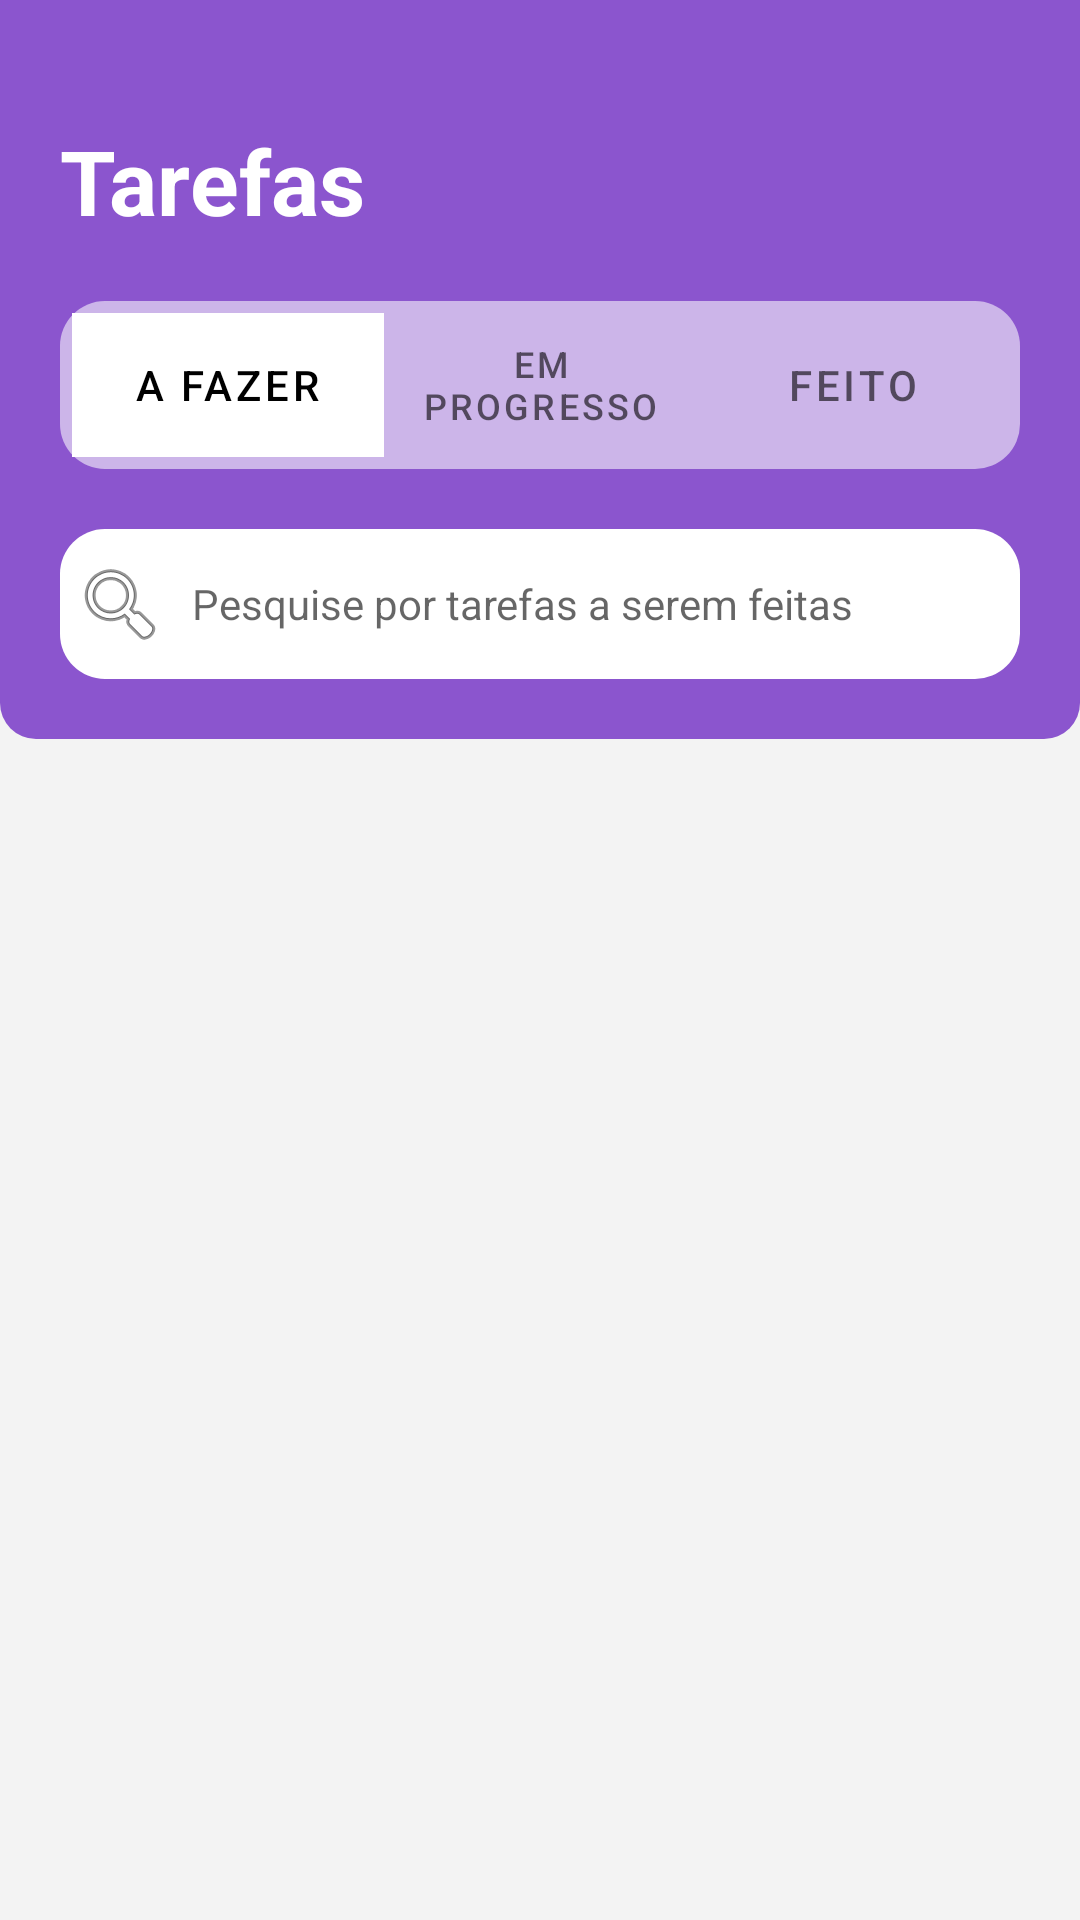

Icon bounding boxes for this 1080×1920 phone screenshot, format (x1, y1, x2, y2):
Pesquisar: (84, 569, 156, 640)
